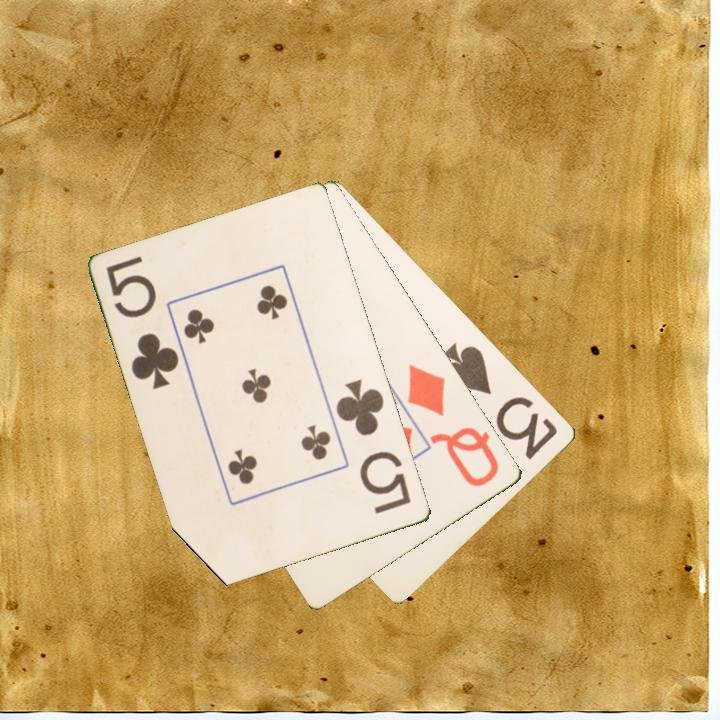3s: (438, 339, 561, 463)
5c: (332, 376, 415, 517), (103, 252, 183, 393)
Qd: (404, 361, 503, 490)
